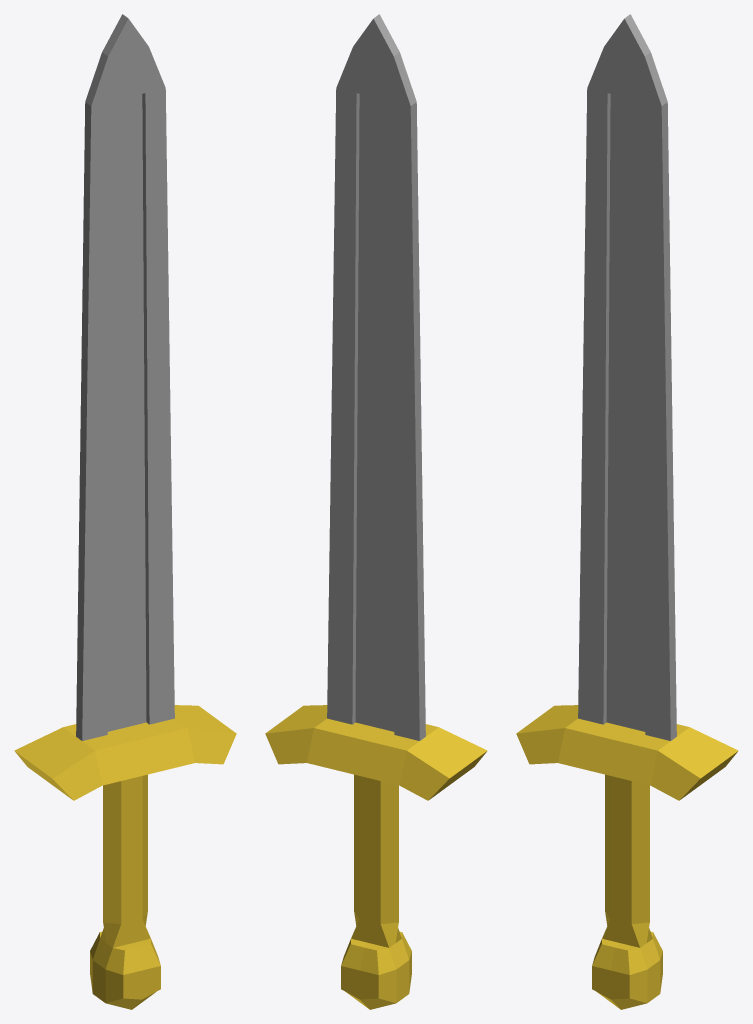
Rendered from IronSword.glb.
The picture shows the model from 3 angles, left to right: view 1: azimuth 30°, elevation 25°; view 2: azimuth 150°, elevation 25°; view 3: azimuth 330°, elevation 25°; orthographic projection.
Parts seen in each view (by area): view 1: IronSword; view 2: IronSword; view 3: IronSword.
Boxes of the visible parts, <box> form: IronSword: <box>14,14,236,1009</box>; IronSword: <box>265,14,487,1009</box>; IronSword: <box>516,14,738,1009</box>.
Size of the model in its own units: 0.543 by 2.78 by 0.2371.
